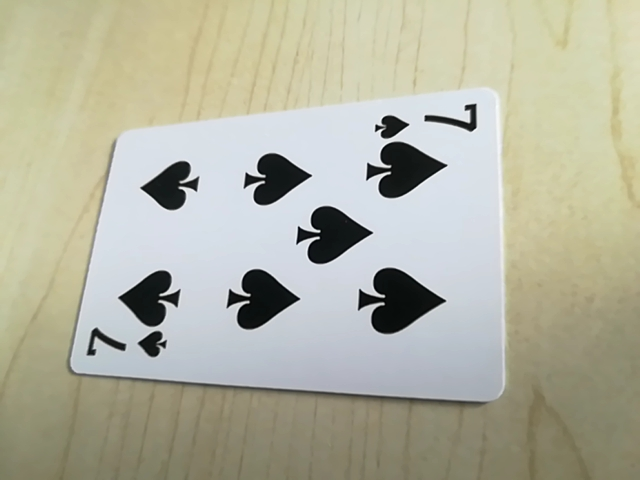ht 7: (366, 98, 484, 139), (77, 326, 173, 368)
